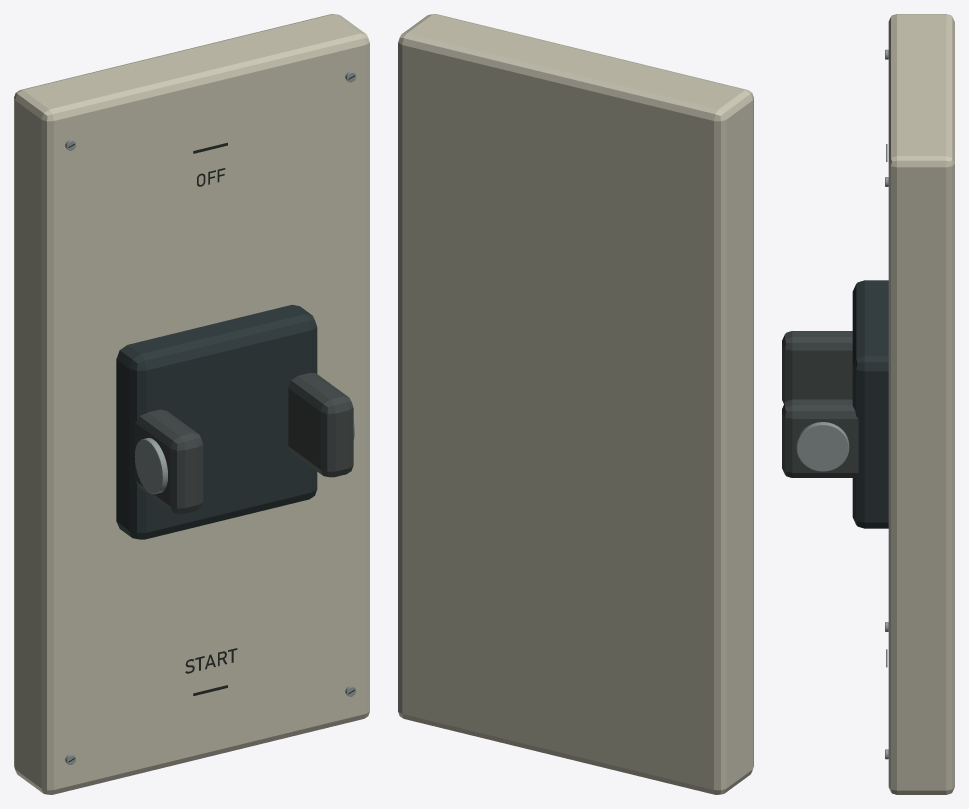
Rendered from START_Housing.fbx.
The picture shows the model from 3 angles, left to right: view 1: azimuth 30°, elevation 25°; view 2: azimuth 150°, elevation 25°; view 3: azimuth 270°, elevation 25°; orthographic projection. The views are drawn at different scales.
Parts seen in each view (by area): view 1: START_Housing_EXPORT; view 2: START_Housing_EXPORT; view 3: START_Housing_EXPORT.
Part boxes in pixels (box(x1,y1,x2,y2)): START_Housing_EXPORT: box(14, 14, 369, 794); START_Housing_EXPORT: box(398, 14, 753, 794); START_Housing_EXPORT: box(782, 14, 954, 794).
Size of the model in its own units: 0.414 by 0.828 by 0.203.
